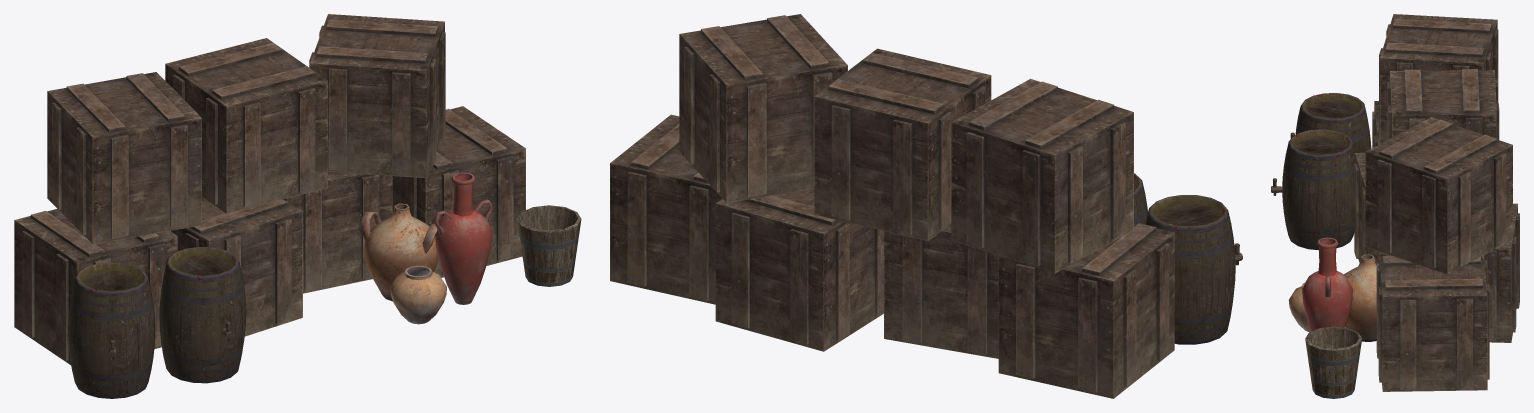
File: NTsho_Small_Stand_D-transformed.glb
The picture shows the model from 3 angles, left to right: view 1: azimuth 30°, elevation 25°; view 2: azimuth 150°, elevation 25°; view 3: azimuth 270°, elevation 25°; orthographic projection. The views are drawn at different scales.
Parts seen in each view (by area): view 1: default; view 2: default; view 3: default.
Part boxes in pixels (x1,y1,x2,y2): default: (14, 14, 581, 398); default: (610, 14, 1242, 398); default: (1271, 14, 1519, 398).
Bounding box in the file's own units: 3.04 × 1.28 × 1.47.
4 materials, 4 textured.
